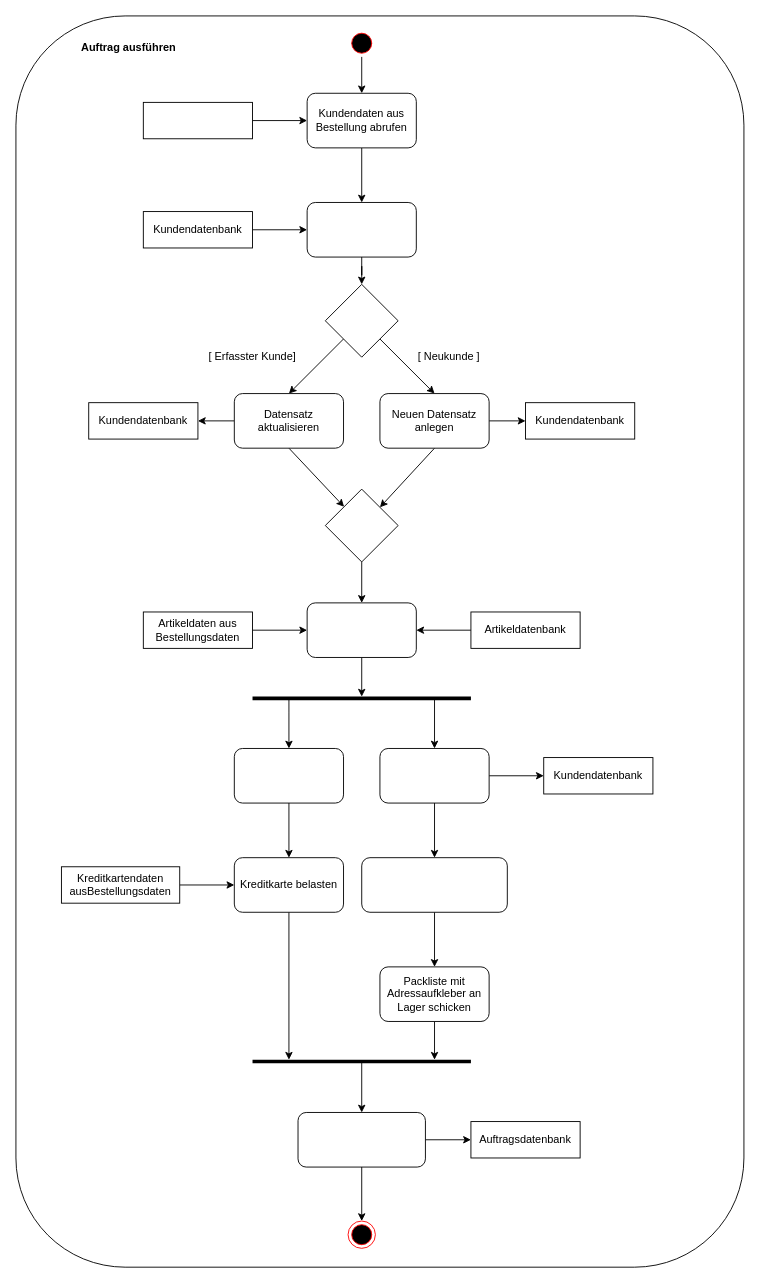
The diagram is 760 pixels wide and 1283 high, and some of its shapes have lost their labels. The shapes that lost their labels are listed below. From the top down, each one's box as (x1, y1, x2, y2) in pixels, then its label:
(142, 101, 253, 139): Kundendaten aus Bestellungsdaten
(306, 202, 416, 257): Kundendaten mit Datenbank abgeleichen
(306, 602, 416, 657): Verfügbarkeit jedes Artikels prüfen
(233, 748, 344, 803): Rechnung an Kunden schicken
(379, 748, 489, 803): Artickelliste in Kundendatenbank speichern
(361, 857, 507, 912): Auftragsbestätigung mit jemeiligem Lieferdatum an Kunden schicken
(297, 1112, 425, 1167): Auftragszustand in Datenbank eintragen
